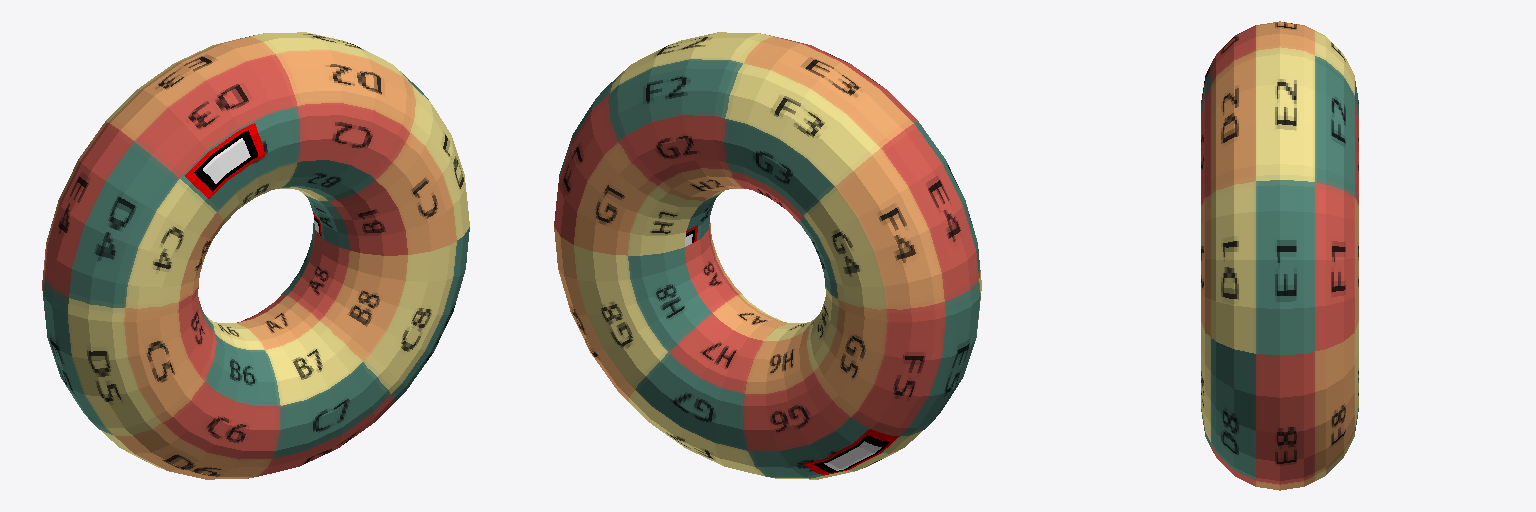
3 views of the same model, side by side, from view 1: azimuth 30°, elevation 25°; view 2: azimuth 150°, elevation 25°; view 3: azimuth 270°, elevation 25° (orthographic).
Size of the model in its own units: 3 by 2.98 by 1.
Materials: 1 (1 with a texture image).